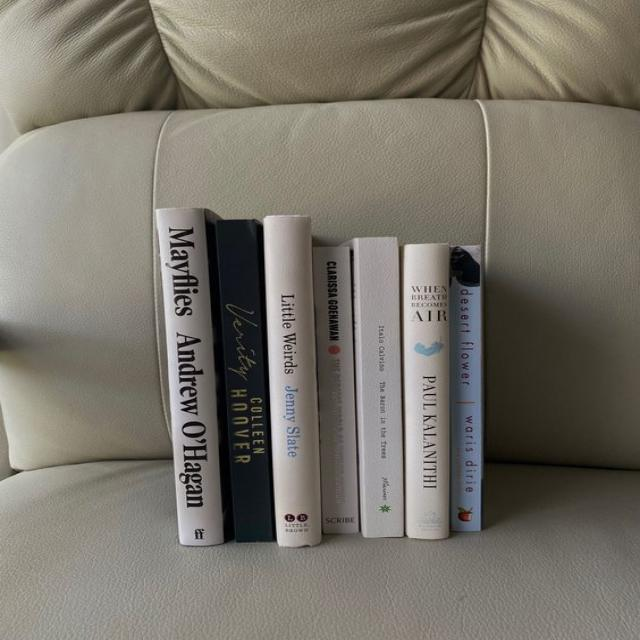book: (158, 209, 224, 546), (263, 215, 321, 547), (216, 220, 275, 542), (350, 237, 404, 537), (403, 243, 449, 539), (313, 246, 359, 534), (450, 246, 482, 531)
